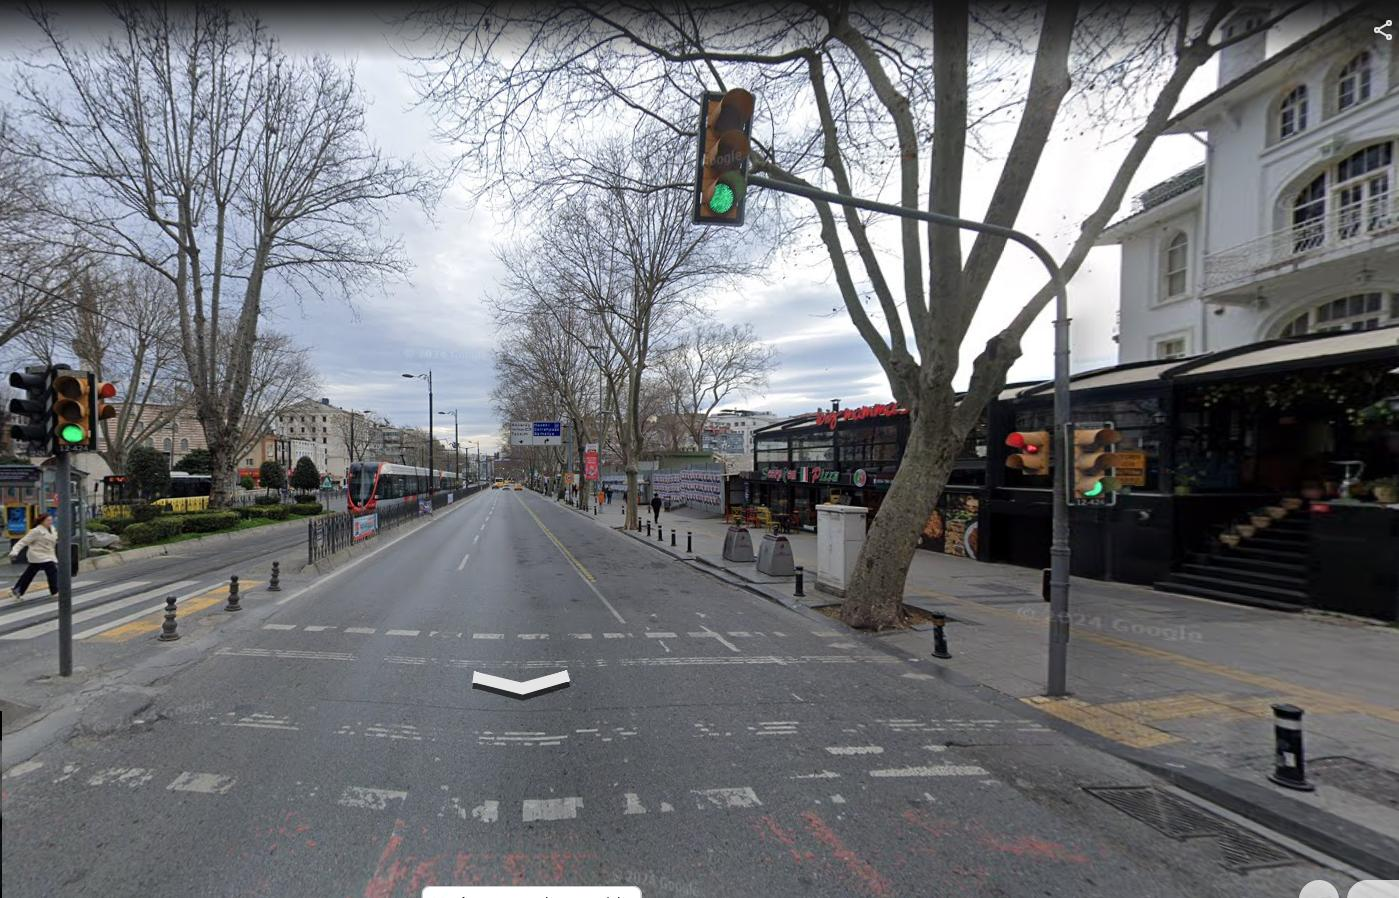greenlight: (697, 85, 747, 225), (51, 371, 95, 459), (1069, 423, 1110, 509)
